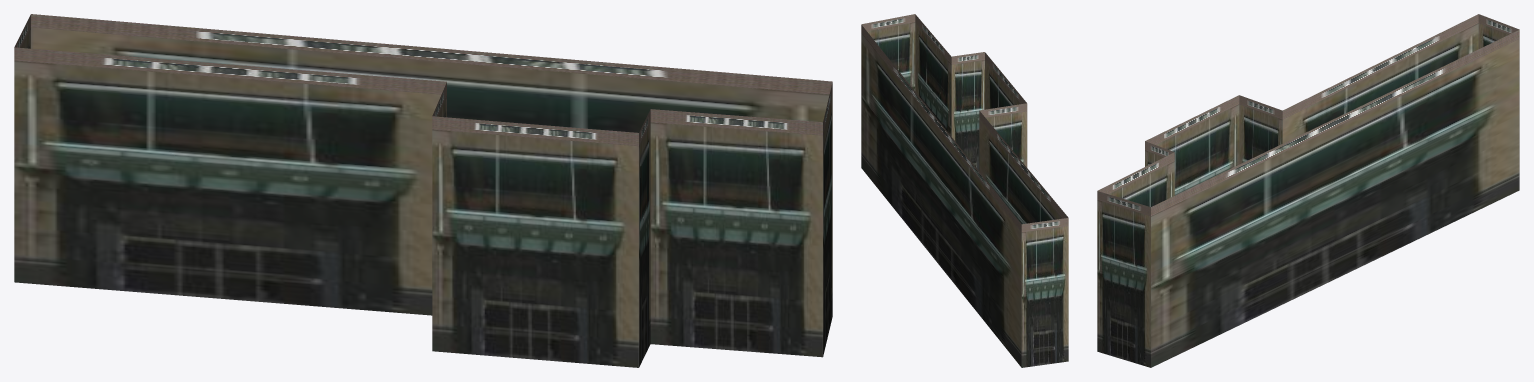
Rendered from building.obj.
3 views of the same model, side by side, from view 1: azimuth 30°, elevation 25°; view 2: azimuth 150°, elevation 25°; view 3: azimuth 270°, elevation 25° (orthographic). The views are drawn at different scales.
Parts seen in each view (by area): view 1: TaipeiGovBuilding_509040; view 2: TaipeiGovBuilding_509040; view 3: TaipeiGovBuilding_509040.
Part boxes in pixels (<box>): TaipeiGovBuilding_509040: <box>14,14,832,367</box>; TaipeiGovBuilding_509040: <box>861,14,1068,367</box>; TaipeiGovBuilding_509040: <box>1097,14,1519,367</box>.
Bounding box in the file's own units: 9.02 × 3.5 × 8.34.
1 material, 1 textured.
